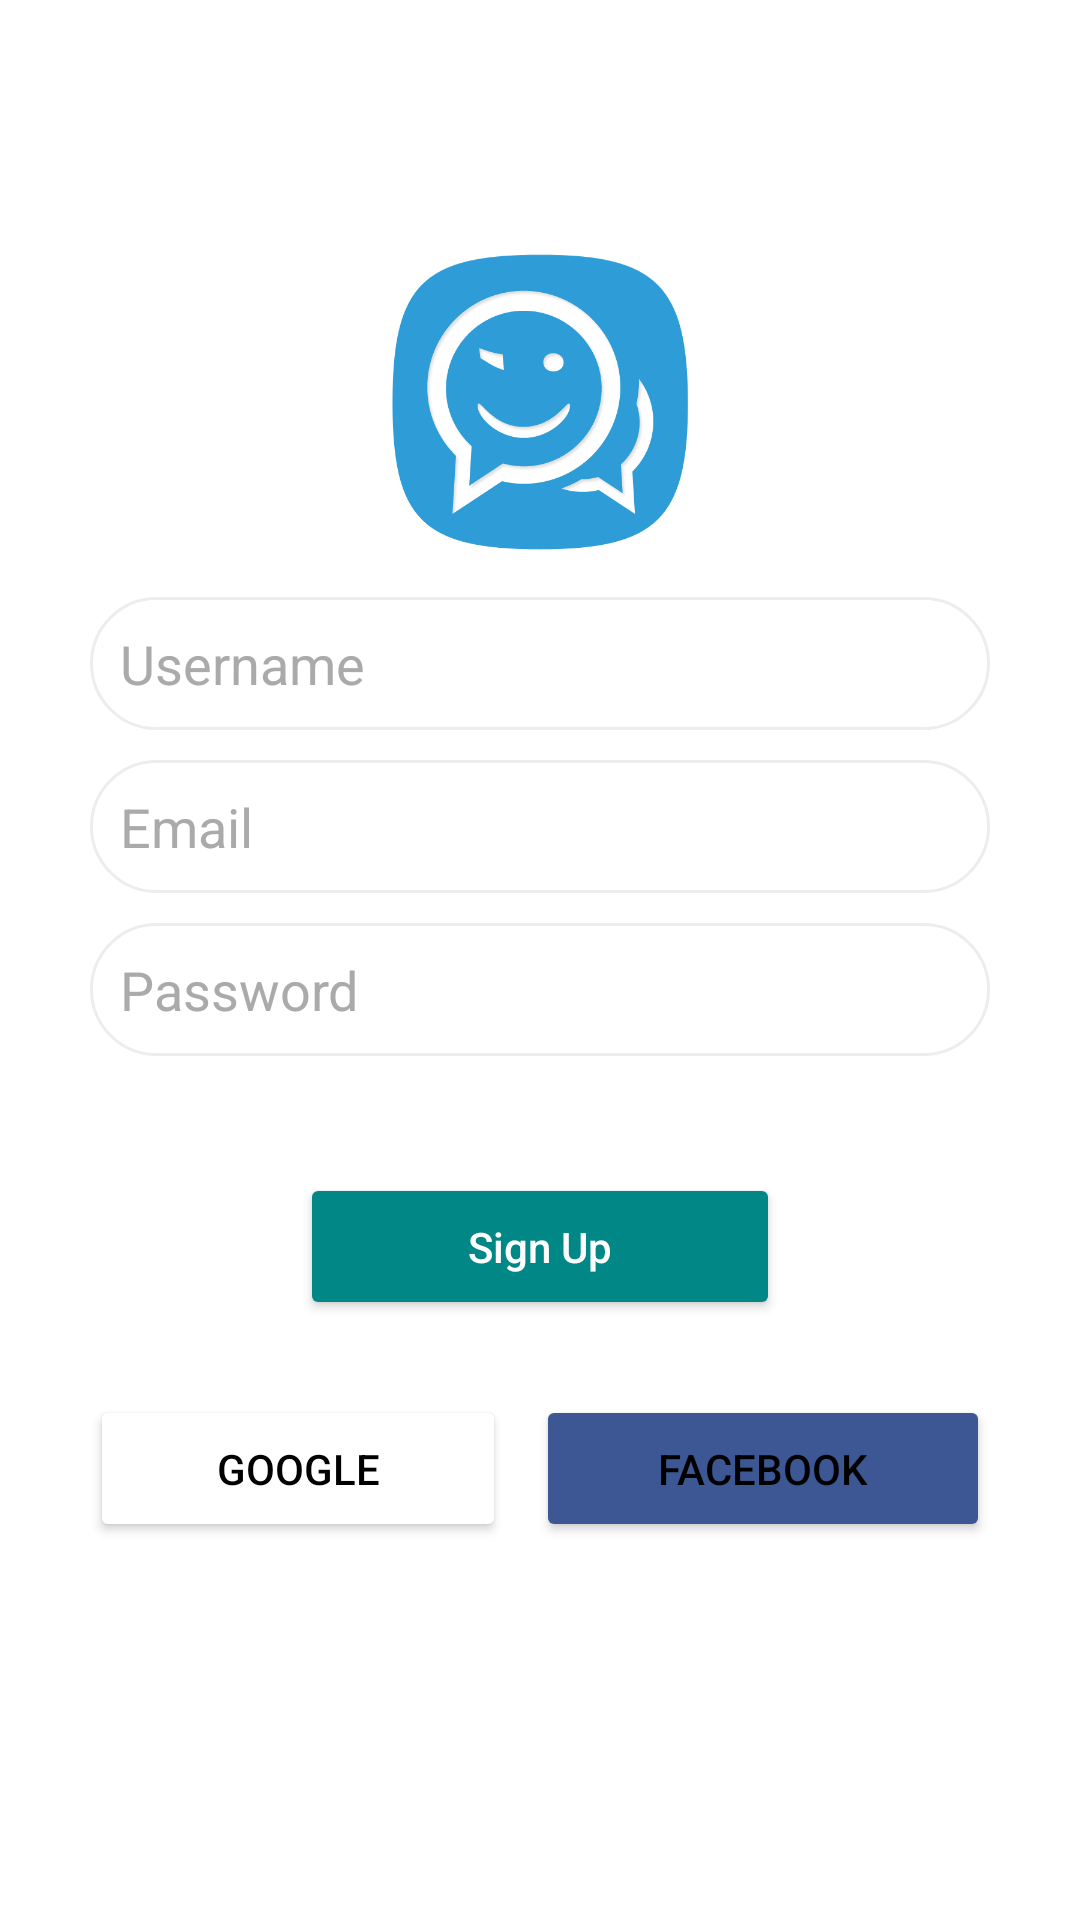

Point at icon controls on the screen. Image size 1080w x 1920h, points as [x,y].
chatspot: [540,402]
